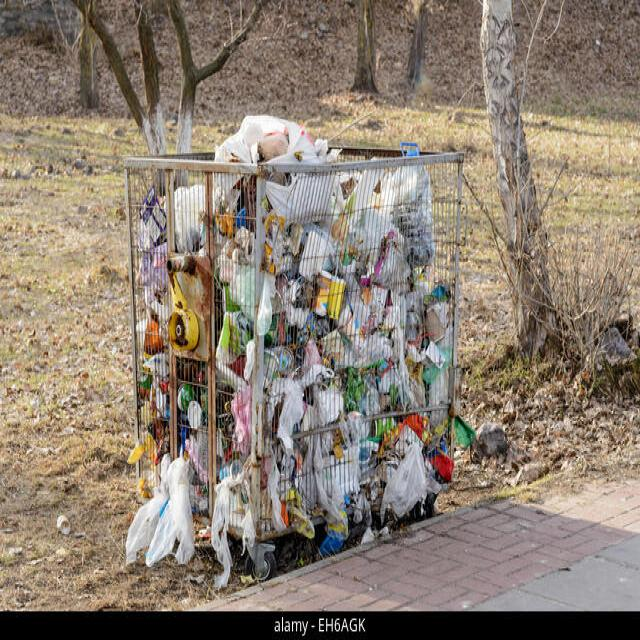trash: (36, 93, 473, 538)
